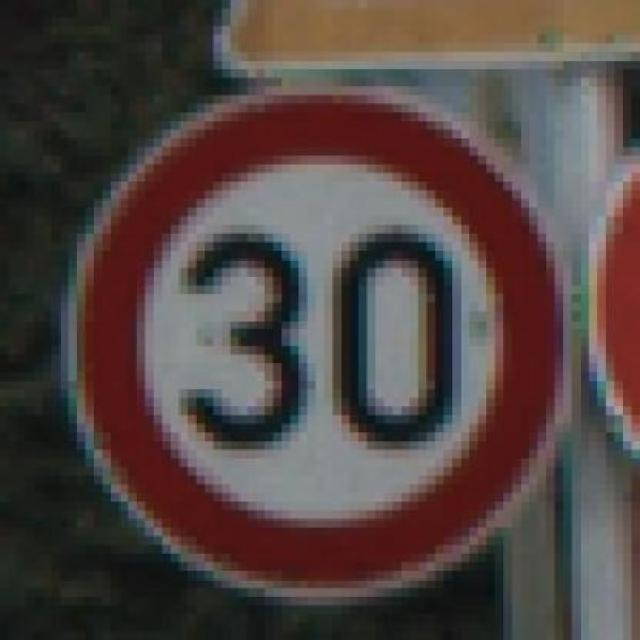Speed Limit 30 KMPh: (51, 51, 589, 614)
